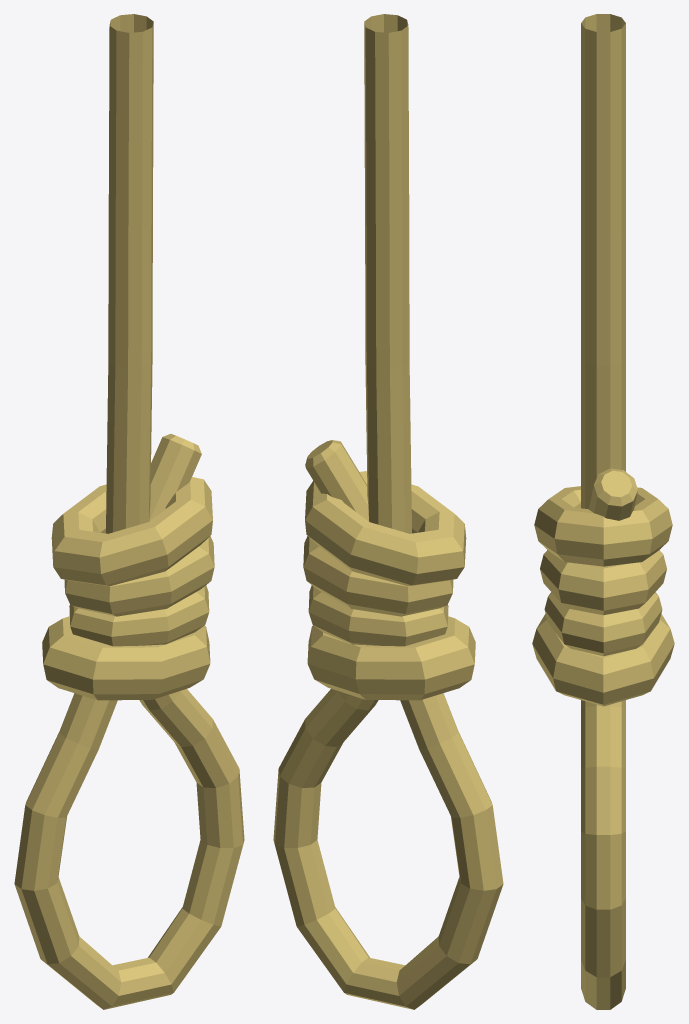
File: noose.fbx
3 renders of one model, left to right at view 1: azimuth 30°, elevation 25°; view 2: azimuth 150°, elevation 25°; view 3: azimuth 270°, elevation 25°, orthographic.
Visible parts, largest first — view 1: noose; view 2: noose; view 3: noose.
Boxes of the visible parts, x1,y1,x2,y2 form: noose: [14, 14, 244, 1009]; noose: [273, 14, 503, 1009]; noose: [532, 14, 674, 1009].
Bounding box in the file's own units: 0.2965 × 1.24 × 0.1653.
